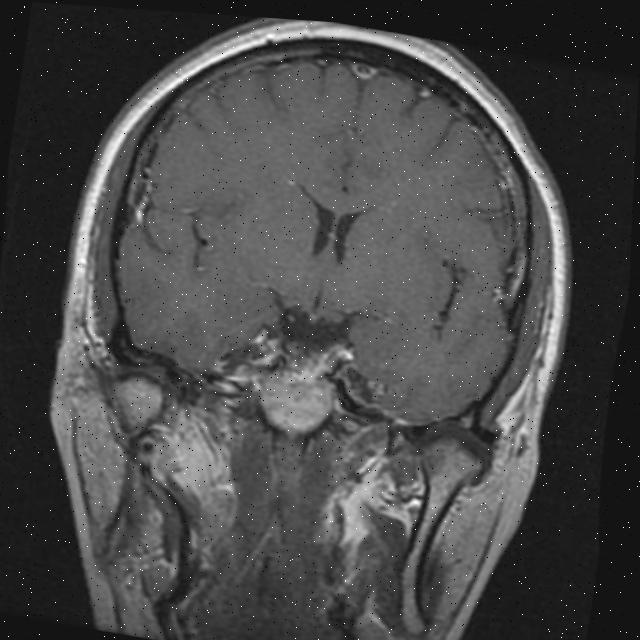Pituitary: (256, 365, 338, 437)
